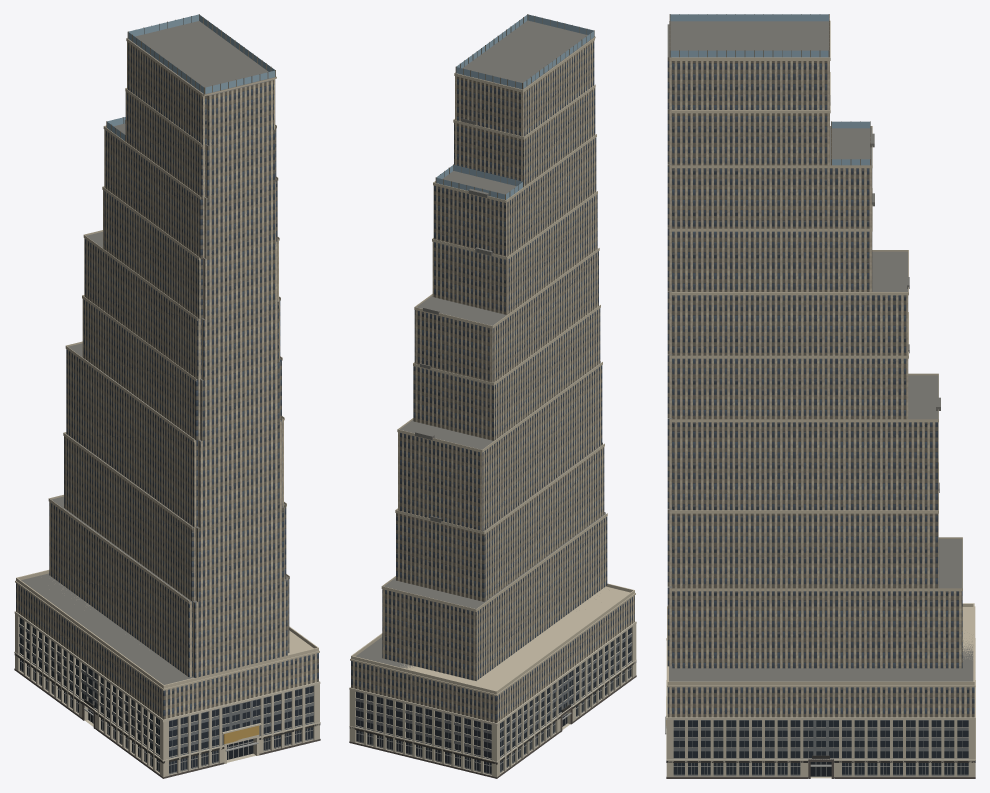
The model's file is rockefeller_30.glb.
The picture shows the model from 3 angles, left to right: view 1: azimuth 30°, elevation 25°; view 2: azimuth 150°, elevation 25°; view 3: azimuth 270°, elevation 25°; orthographic projection. The views are drawn at different scales.
Visible parts, largest first — view 1: rockefeller_30; view 2: rockefeller_30; view 3: rockefeller_30.
Boxes of the visible parts, x1,y1,x2,y2 form: rockefeller_30: (14, 14, 320, 778); rockefeller_30: (349, 14, 636, 778); rockefeller_30: (665, 14, 975, 778).
Bounding box in the file's own units: 62.9 × 259 × 103.
2 materials, 2 textured.
